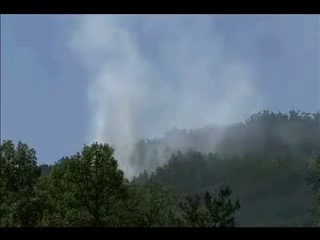smoke: (95, 105, 320, 188), (99, 12, 254, 107)
